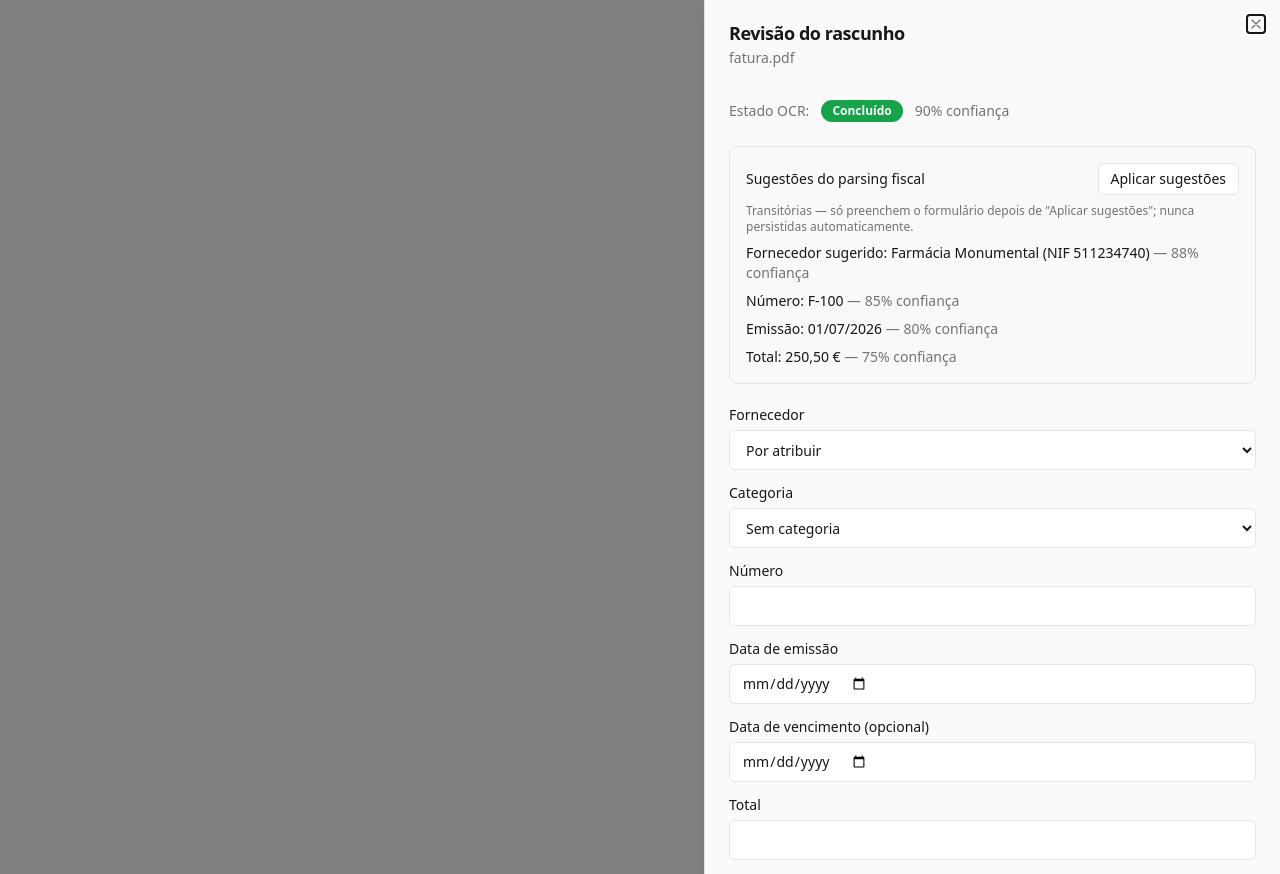
Test case: InvoiceDraftReviewSheet (Fase 6.8) › "Aplicar sugestões" resolve o fornecedor (correção Fase 6.8) › NIF sugerido sem correspondência E nome sem correspondência — nenhum fornecedor resolvido, aviso mostrado
What coordinates should you click on to do the following:
click the button "Aplicar sugestões"
I would click on:
 (1168, 179)
Its box is [1098, 163, 1239, 195].
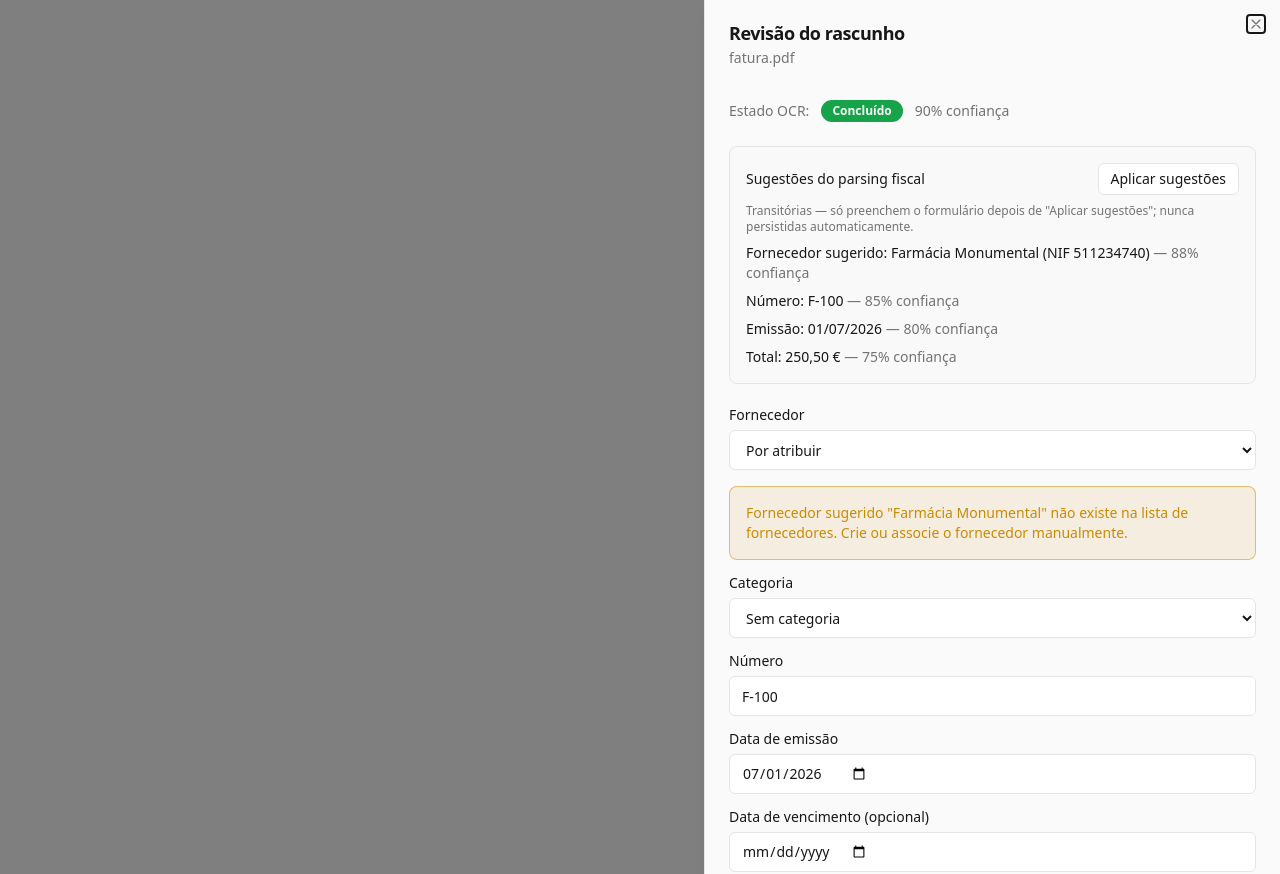
Check: the 1st dropdown shows "Por atribuir", box [729, 430, 1256, 470]
Check: the text "não existe na lista de fornecedores" is shown, box [746, 503, 1188, 542]
